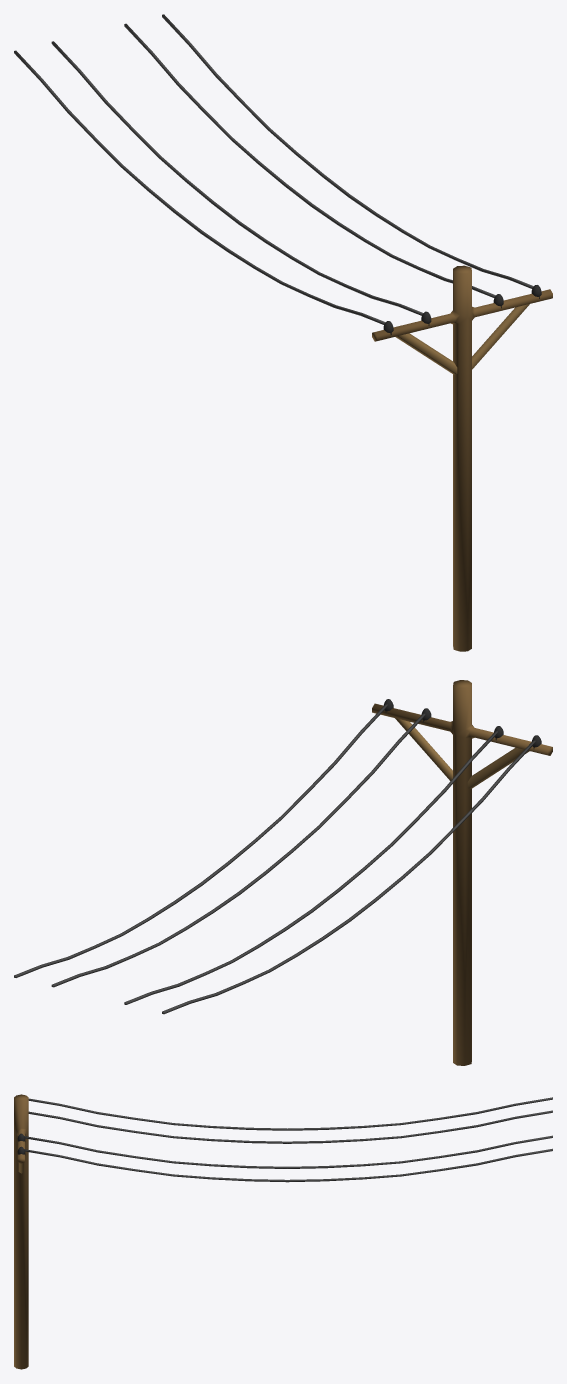
The model's file is TelegraphLines.fbx.
The picture shows the model from 3 angles, top to bottom: view 1: azimuth 30°, elevation 25°; view 2: azimuth 150°, elevation 25°; view 3: azimuth 270°, elevation 25°; orthographic projection. The views are drawn at different scales.
Parts seen in each view (by area): view 1: Cube.156; view 2: Cube.156; view 3: Cube.156.
Part boxes in pixels (x1,y1,x2,y2): Cube.156: [14, 14, 552, 651]; Cube.156: [14, 680, 552, 1065]; Cube.156: [14, 1094, 552, 1369].
Size of the model in its own units: 272 by 559 by 1015.
